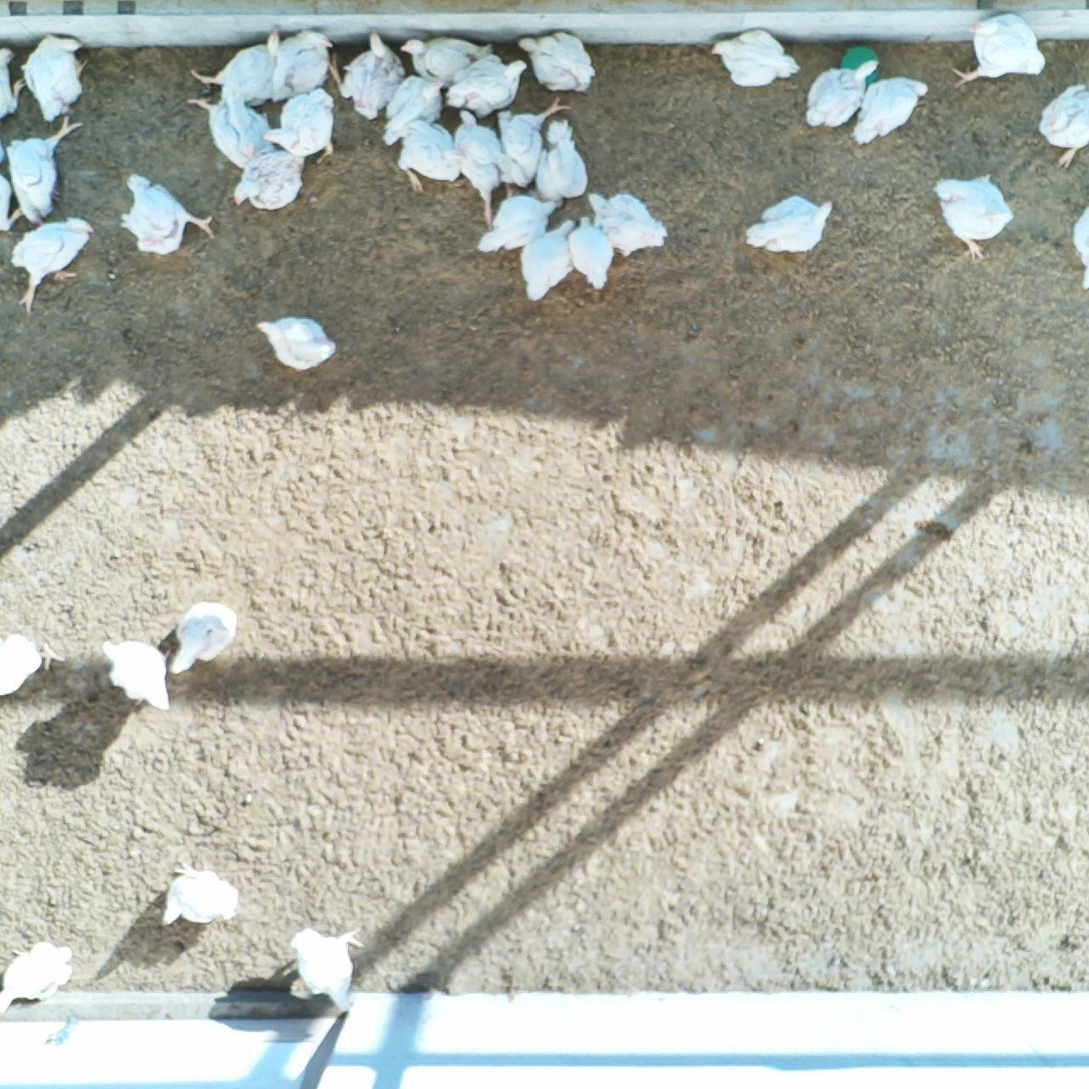chicken: (8, 209, 94, 320), (117, 163, 217, 256), (190, 23, 287, 111), (950, 8, 1050, 93), (494, 94, 581, 191), (9, 111, 82, 226), (935, 165, 1016, 262), (447, 106, 510, 228), (329, 28, 409, 121), (287, 922, 368, 1013), (479, 179, 563, 264), (189, 94, 278, 171), (22, 32, 91, 124), (394, 30, 497, 91), (743, 190, 836, 257), (584, 187, 670, 258), (0, 938, 77, 1015), (801, 54, 878, 131), (266, 86, 341, 165), (391, 117, 467, 194), (713, 25, 800, 91), (852, 74, 932, 145), (99, 635, 172, 712), (444, 52, 527, 119), (534, 114, 593, 207), (160, 860, 241, 927), (254, 312, 341, 374), (518, 27, 595, 96), (170, 597, 239, 673), (1035, 76, 1089, 172), (270, 23, 332, 104), (233, 141, 309, 207), (384, 71, 449, 148), (0, 630, 66, 698), (569, 211, 612, 296), (0, 41, 32, 118), (0, 170, 33, 234), (1070, 188, 1089, 298), (518, 276, 532, 304)
